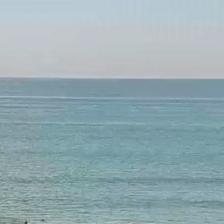surfer: (22, 220, 29, 224), (40, 218, 46, 222)
